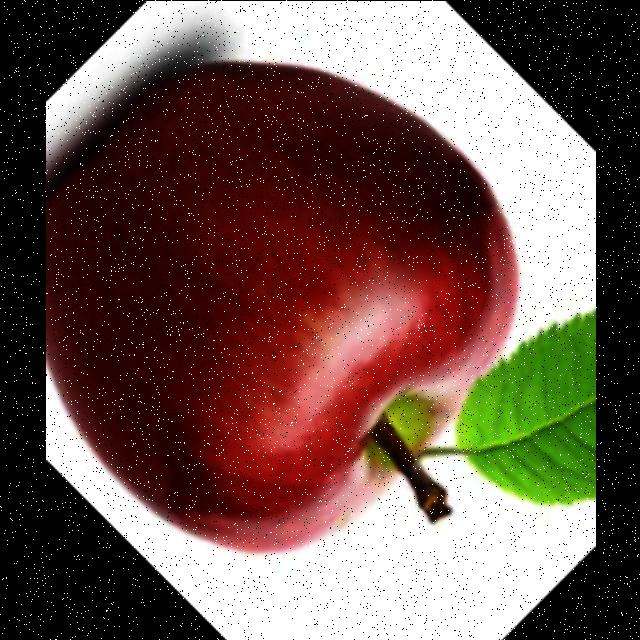Apel Segar: (44, 57, 520, 554)
